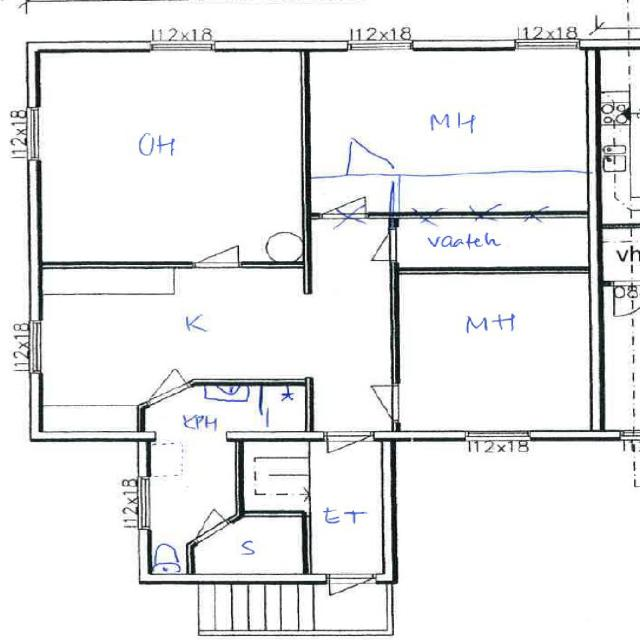door: (338, 134, 396, 178), (184, 239, 246, 271), (368, 378, 402, 428), (319, 428, 377, 456), (322, 572, 374, 597)
window: (18, 100, 47, 165), (339, 35, 416, 58), (505, 35, 589, 56), (185, 242, 248, 270), (139, 37, 220, 58), (457, 428, 536, 449), (24, 319, 46, 378), (134, 470, 155, 530), (383, 224, 399, 265)
zone: (33, 47, 310, 265), (304, 49, 606, 176), (392, 265, 598, 432), (232, 438, 396, 581), (36, 281, 176, 435), (389, 213, 589, 274), (163, 382, 310, 437), (194, 512, 306, 581), (597, 49, 640, 227), (596, 225, 640, 285)
